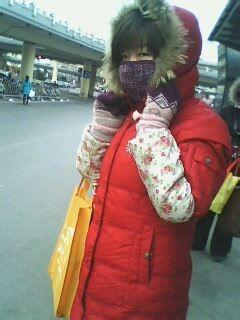OK: (117, 46, 170, 99)
